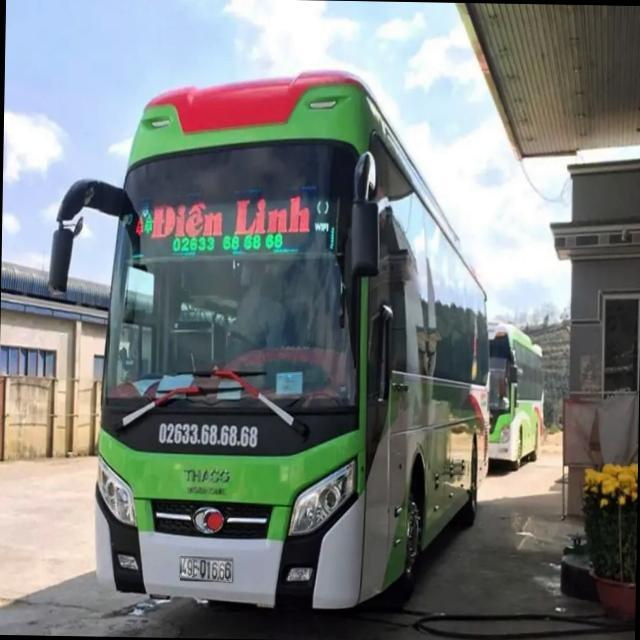car: (77, 5, 524, 625)
plate: (152, 418, 266, 455), (173, 548, 242, 591)
